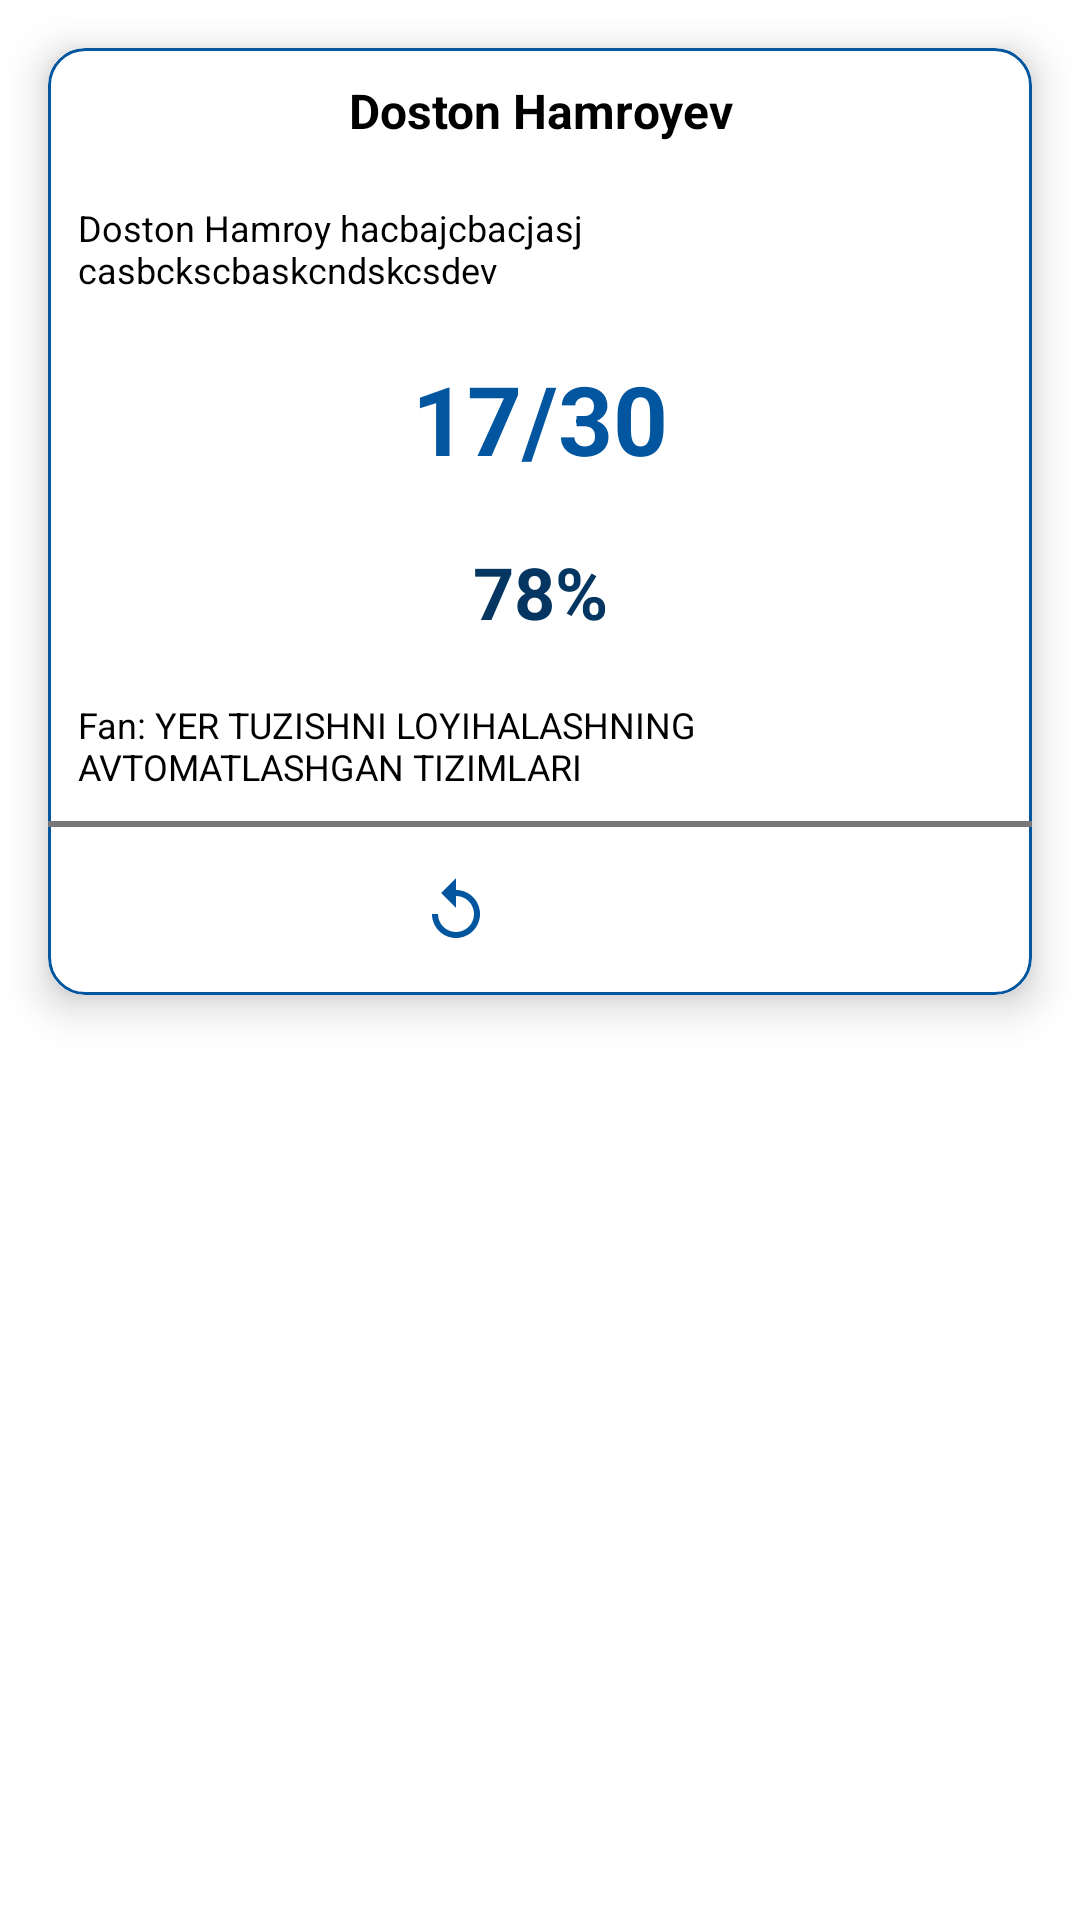

Locate icon controls on the screen. Image size 1080px×1920px, boxes as (x1, y1, x2, y2).
replay: (432, 878, 480, 938)
